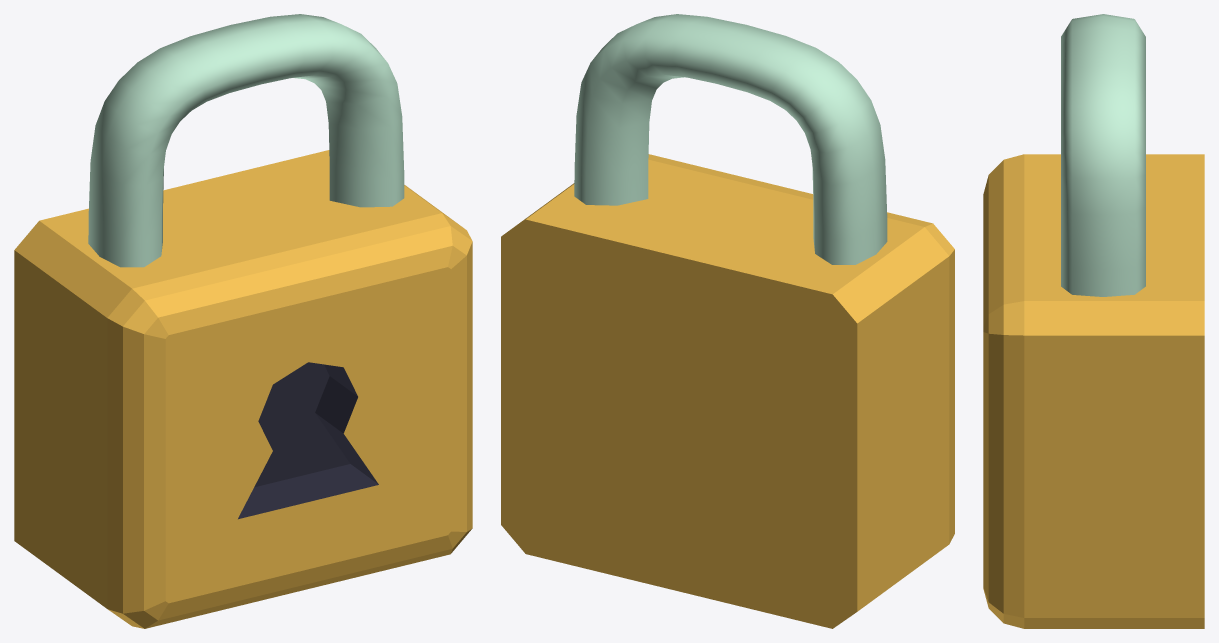
File: lock 1.fbx
3 views of the same model, side by side, from view 1: azimuth 30°, elevation 25°; view 2: azimuth 150°, elevation 25°; view 3: azimuth 270°, elevation 25° (orthographic). The views are drawn at different scales.
Visible parts, largest first — view 1: Cube.004; view 2: Cube.004; view 3: Cube.004.
Part boxes in pixels (x1,y1,x2,y2): Cube.004: [14, 14, 472, 628]; Cube.004: [501, 14, 954, 628]; Cube.004: [983, 14, 1204, 628].
Size of the model in its own units: 202 by 282 by 111.
